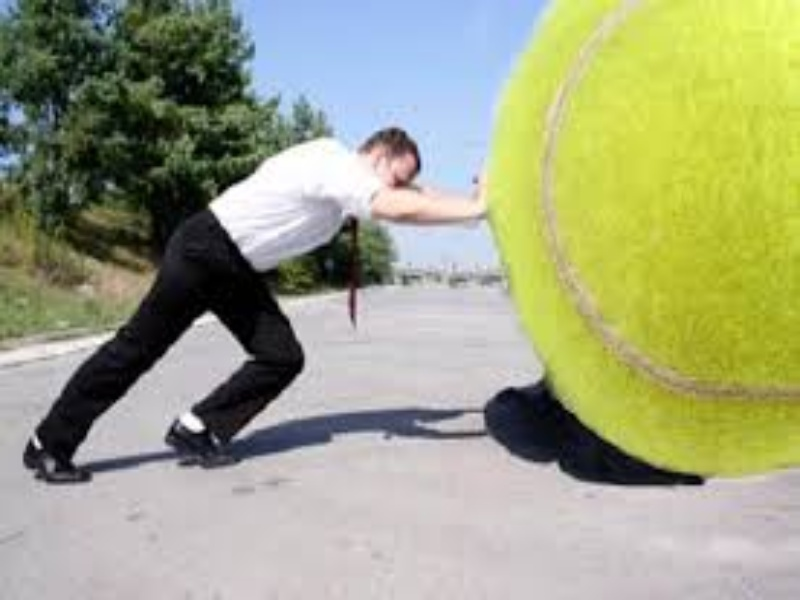tennis ball: (490, 2, 800, 495)
